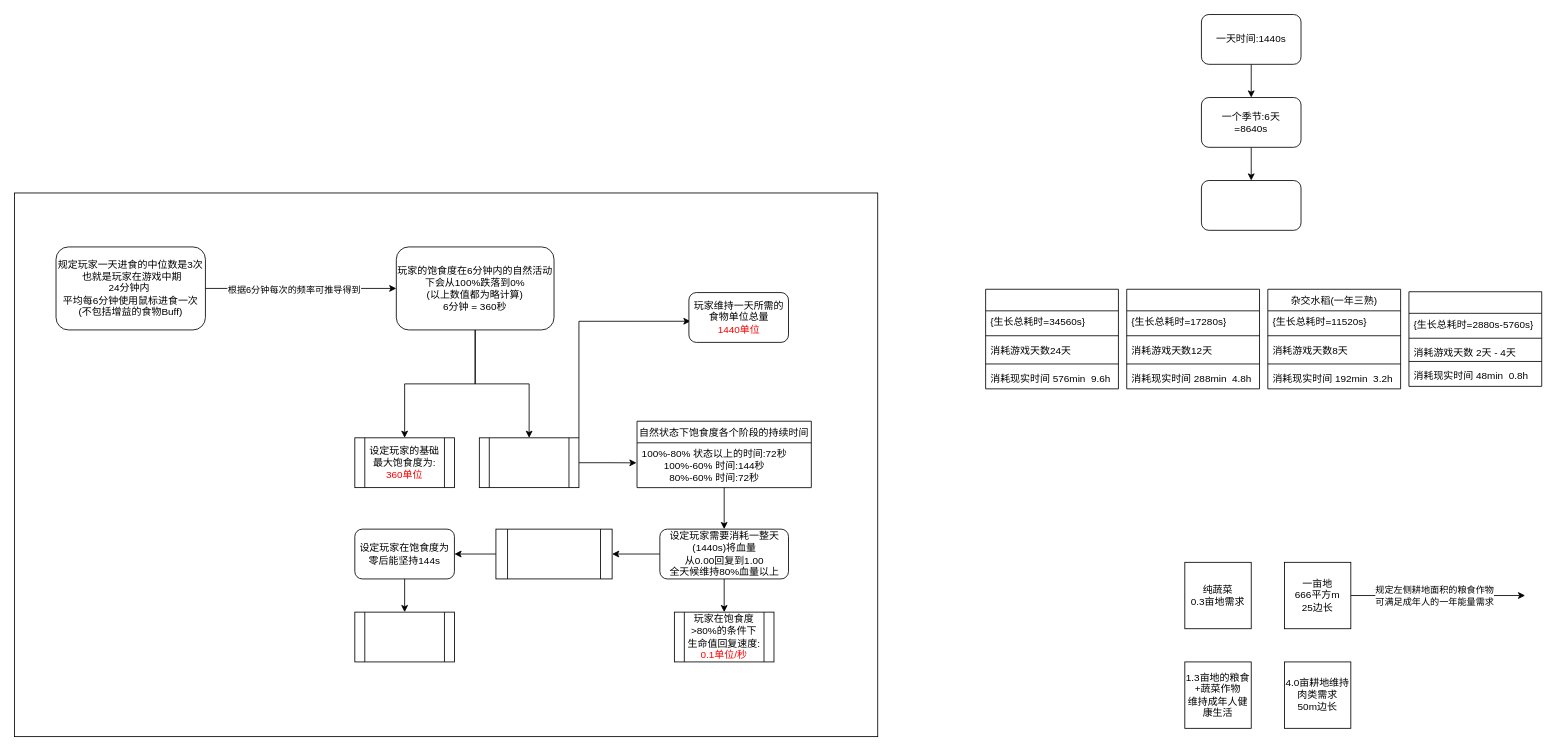
The diagram is 1556 pixels wide and 751 high, and some of its shapes have lost their labels. The box of each missing label's shape, as (x1, y1, x2, y2) in pixels:
一年:4个季节 =34560s: (1201, 180, 1301, 230)
小麦(一年一熟): (985, 288, 1118, 389)
水稻(一年两熟 ): (1126, 288, 1260, 389)
玩家在饱食度<0的情况下生命的流逝速度为 1单位/秒: (354, 611, 454, 662)
玩家自然饱食度流逝速度: 1单位/秒: (478, 437, 579, 488)
蔬菜类（高频收获）: (1408, 291, 1542, 386)
设定玩家的血量为: 144单位: (495, 528, 612, 579)
